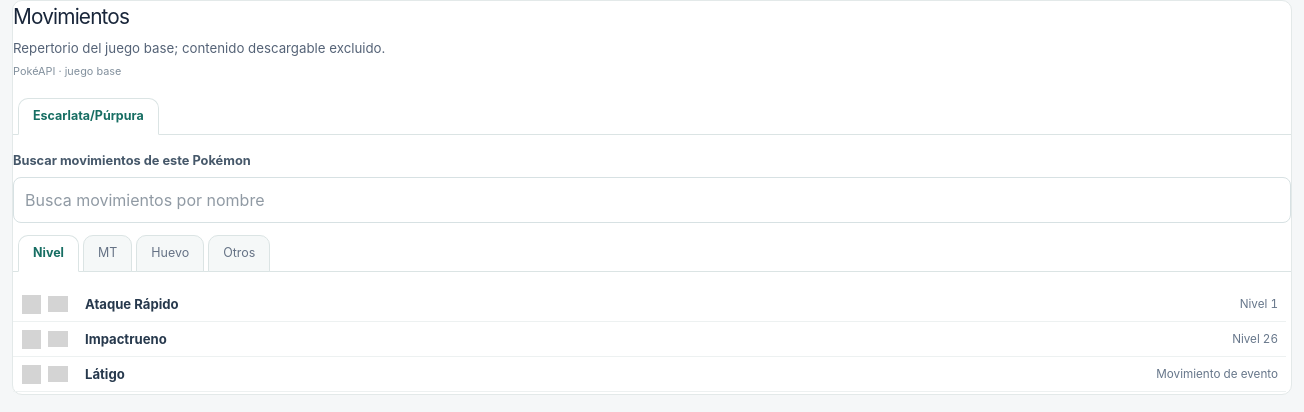
Test: Pokédex move panel › shows the Other folder only when a learnset has an uncommon acquisition method
Click the tab "Otros": (239, 254) [208,235,270,272]
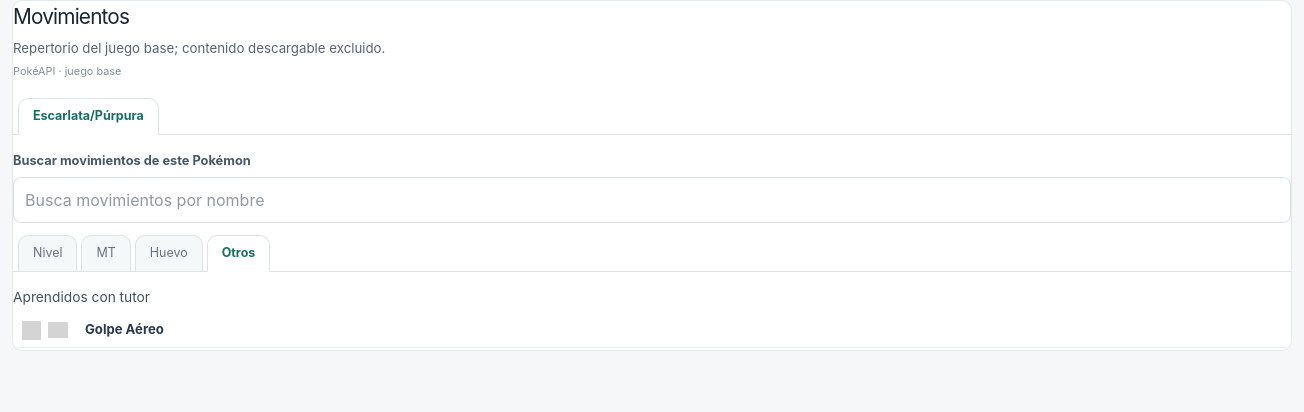
Expected: the heading "Aprendidos con tutor" is shown, [13,289,150,305]
Expected: the text "Golpe Aéreo" is shown, [85,321,164,337]
